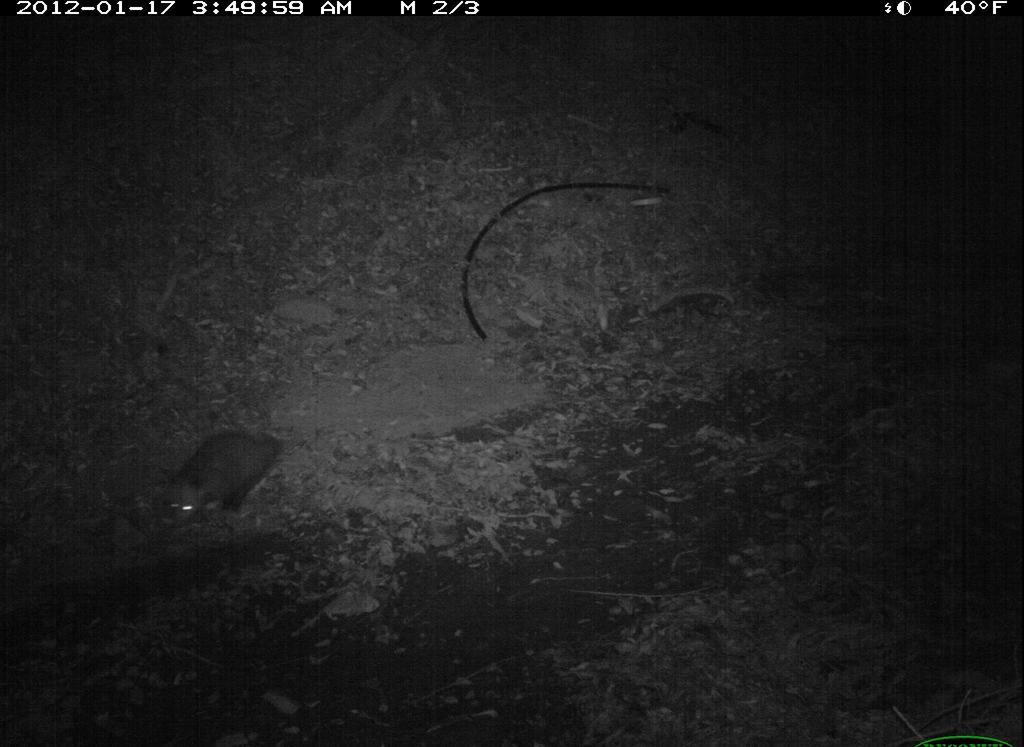opossum: (130, 414, 295, 552)
